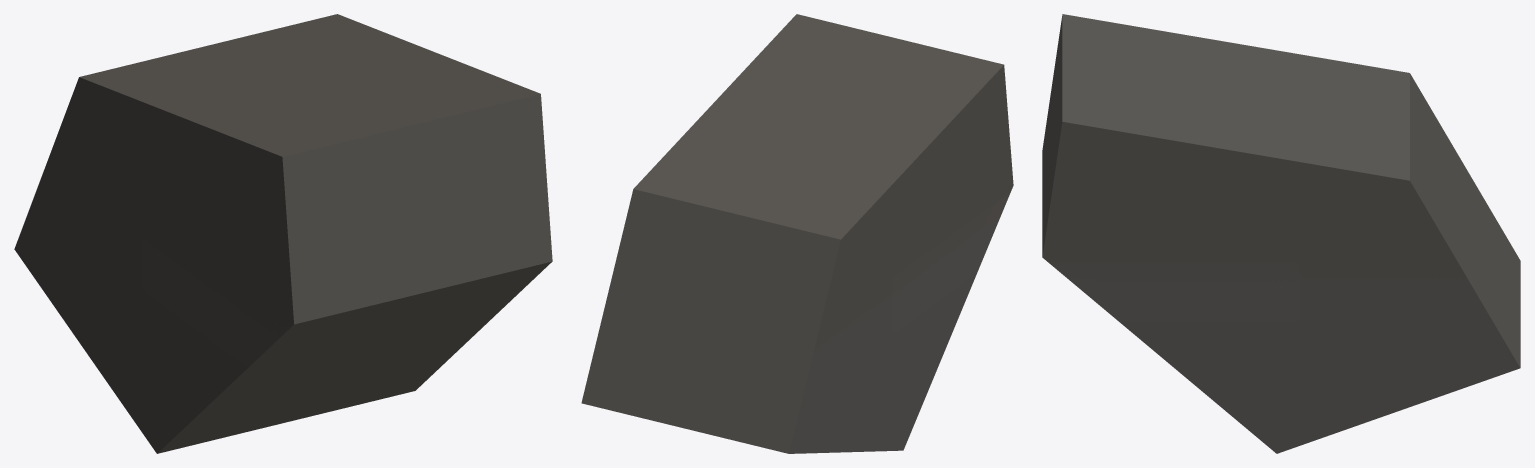
File: SM_Rubble_Trim_Chip_02.fbx
3 renders of one model, left to right at view 1: azimuth 30°, elevation 25°; view 2: azimuth 150°, elevation 25°; view 3: azimuth 270°, elevation 25°, orthographic. The views are drawn at different scales.
Visible parts, largest first — view 1: SM_Rubble_Trim_Chip_02; view 2: SM_Rubble_Trim_Chip_02; view 3: SM_Rubble_Trim_Chip_02.
Part boxes in pixels (<box>): SM_Rubble_Trim_Chip_02: <box>14,14,552,453</box>; SM_Rubble_Trim_Chip_02: <box>581,14,1013,453</box>; SM_Rubble_Trim_Chip_02: <box>1042,14,1520,453</box>.
Size of the model in its own units: 33.57 by 48.27 by 62.94.
